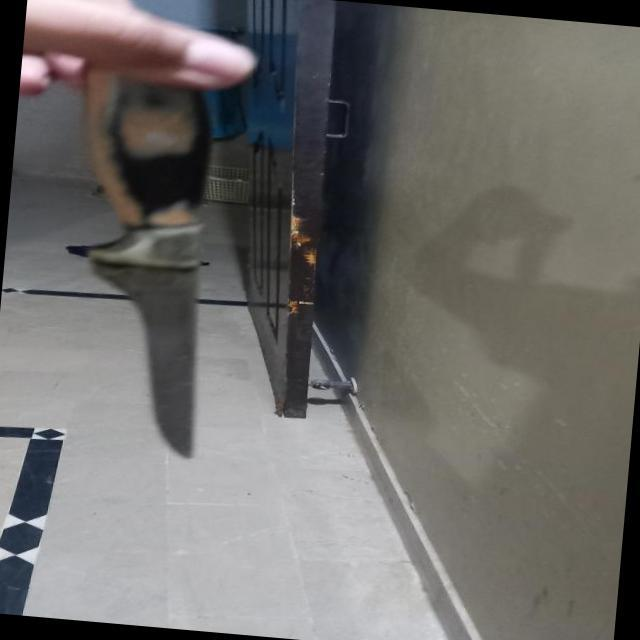Knife: (42, 52, 258, 464)
